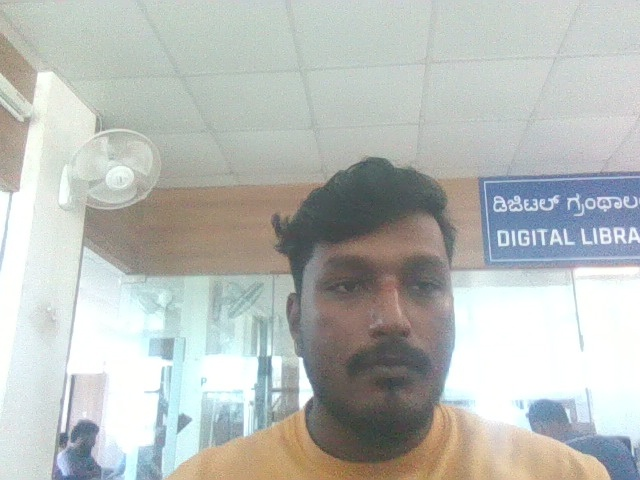real: (271, 139, 484, 441)
